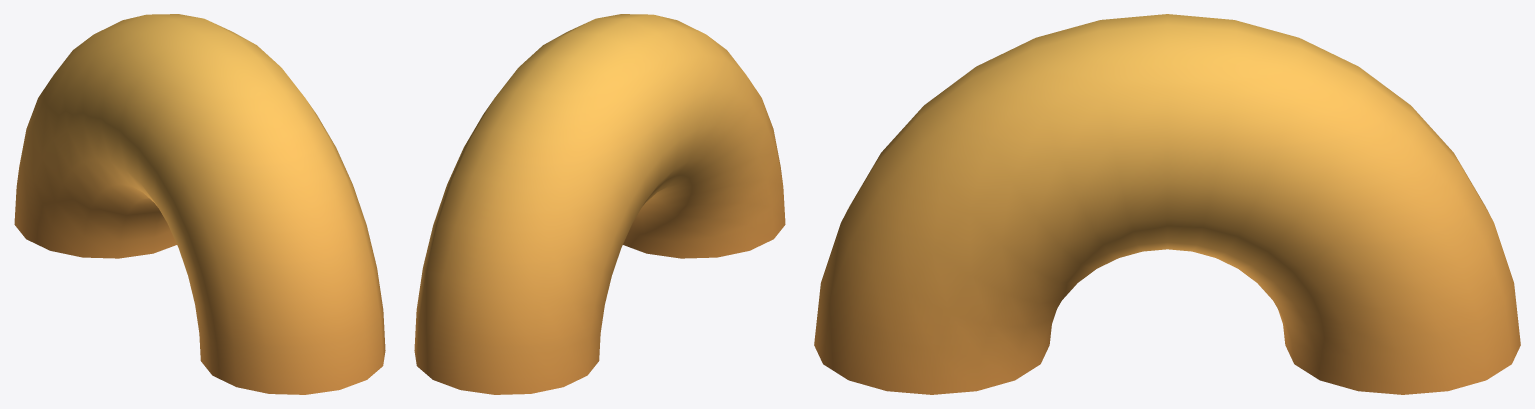
The model's file is pipe_180_A_yellow.glb.
The picture shows the model from 3 angles, left to right: view 1: azimuth 30°, elevation 25°; view 2: azimuth 150°, elevation 25°; view 3: azimuth 270°, elevation 25°; orthographic projection. The views are drawn at different scales.
Parts seen in each view (by area): view 1: pipe_180_A_yellow; view 2: pipe_180_A_yellow; view 3: pipe_180_A_yellow.
Boxes of the visible parts, x1,y1,x2,y2 form: pipe_180_A_yellow: (14,14,385,394); pipe_180_A_yellow: (414,14,785,394); pipe_180_A_yellow: (814,14,1520,394).
Bounding box in the file's own units: 2 × 3 × 6.
1 material, 1 textured.
